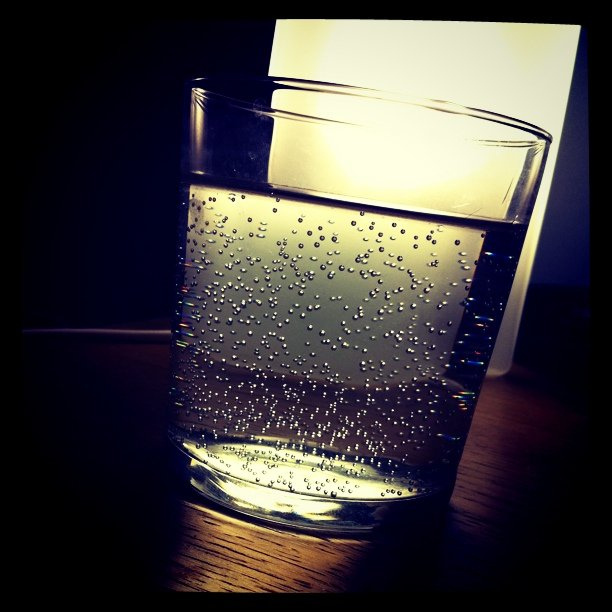glass of water: (168, 50, 556, 568)
